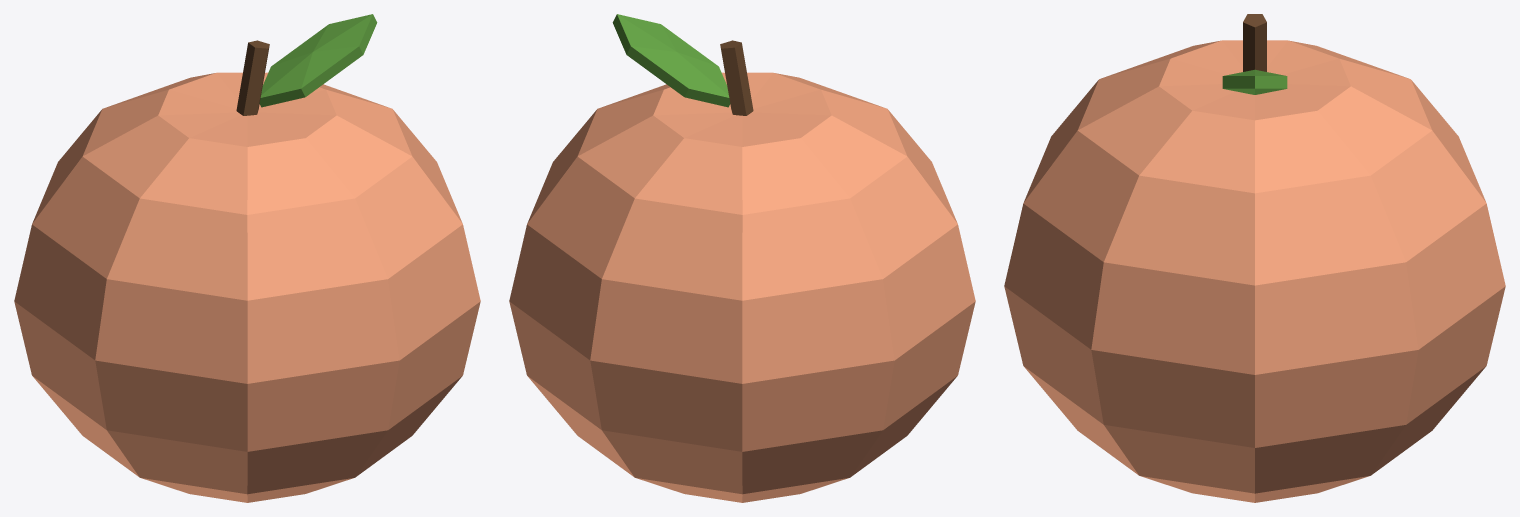
Rendered from Food_Peach.obj.
3 views of the same model, side by side, from view 1: azimuth 30°, elevation 25°; view 2: azimuth 150°, elevation 25°; view 3: azimuth 270°, elevation 25° (orthographic). The views are drawn at different scales.
Bounding box in the file's own units: 1.94 × 1.97 × 1.97.
